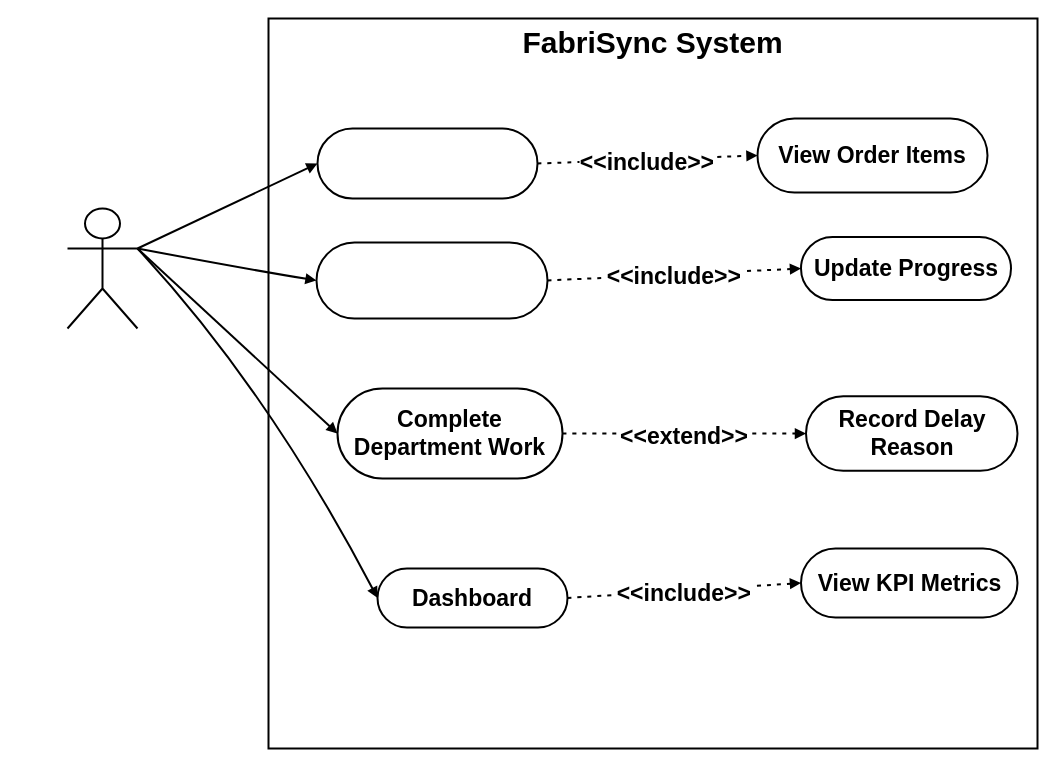
Image size: 1056x766. Some labels were removed from this diagram. Here are the shapes that lost their labels. From the top down, the centre of each, then its label:
point 427,163: View Assigned Orders
point 102,268: Employee Head
point 431,280: Mark Item Completed
